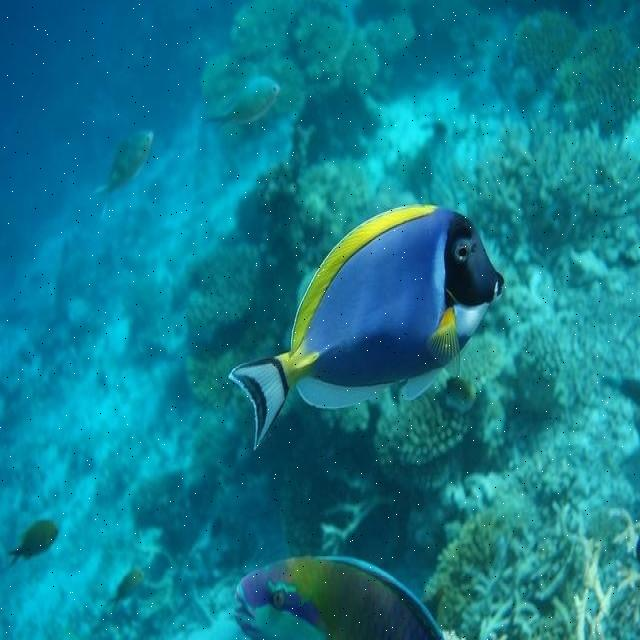fish: (228, 204, 506, 446), (232, 554, 444, 637), (91, 129, 156, 223), (200, 73, 280, 133), (5, 520, 59, 564), (106, 567, 144, 616)
reefs: (177, 162, 377, 402), (425, 447, 639, 638), (413, 105, 639, 285), (202, 2, 415, 150), (378, 338, 502, 496), (509, 11, 639, 137), (523, 274, 639, 406)
